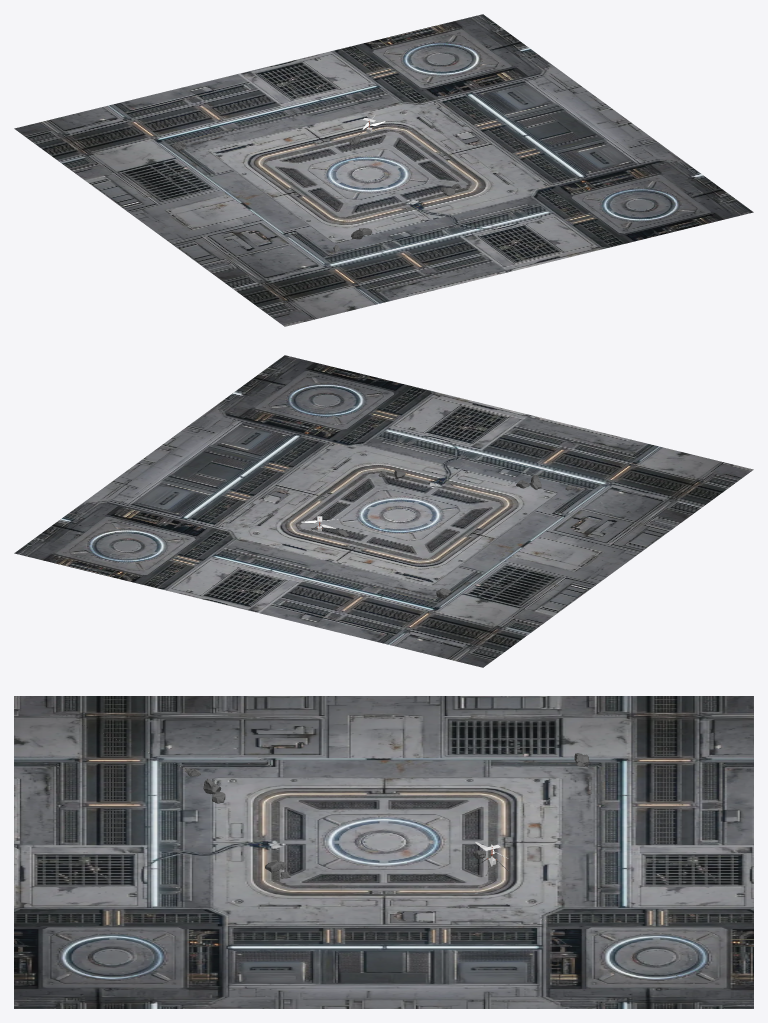
File: EnviromentAwebco-transformed.glb
3 views of the same model, one above another, from view 1: azimuth 30°, elevation 25°; view 2: azimuth 150°, elevation 25°; view 3: azimuth 270°, elevation 25° (orthographic). The views are drawn at different scales.
Visible parts, largest first — view 1: Plane, rock_big_1; view 2: Plane, rock_big_1; view 3: Plane, rock_big_1.
Boxes of the visible parts, bbox=[...] form: Plane: bbox=[14, 14, 753, 326]; rock_big_1: bbox=[172, 136, 461, 252]; Plane: bbox=[14, 355, 753, 667]; rock_big_1: bbox=[335, 470, 577, 598]; Plane: bbox=[14, 696, 753, 1008]; rock_big_1: bbox=[185, 753, 589, 878].
Size of the model in its own units: 17.86 by 0.6633 by 17.86.
5 materials, 4 textured.
